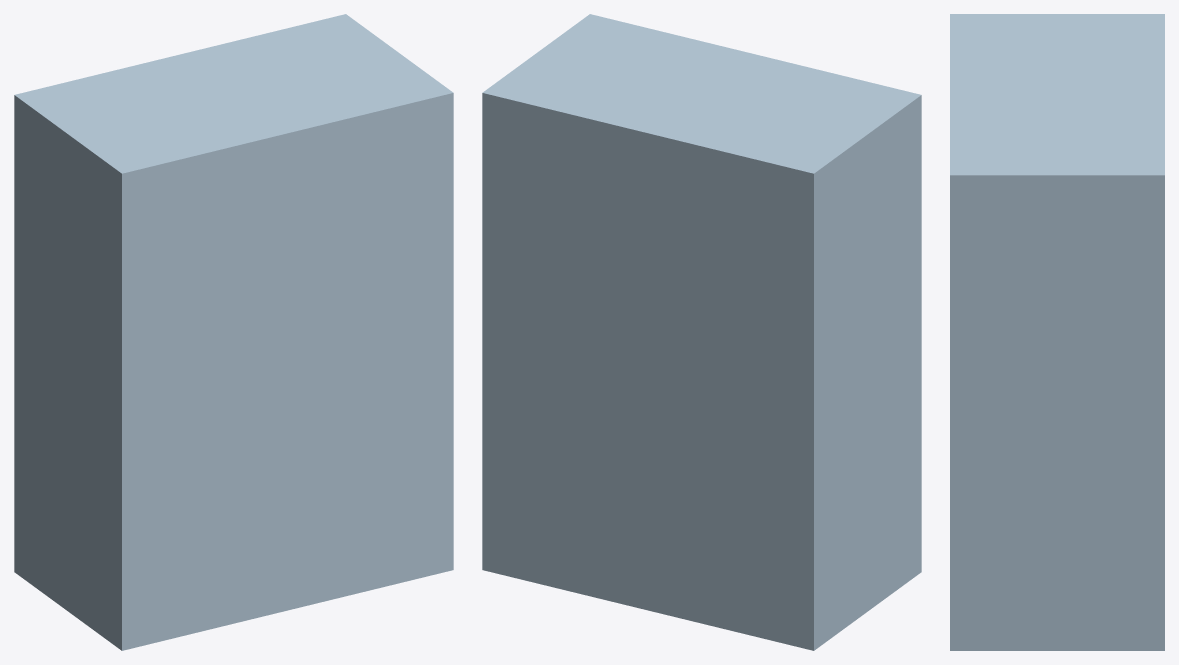
File: cabinet.gltf
The picture shows the model from 3 angles, left to right: view 1: azimuth 30°, elevation 25°; view 2: azimuth 150°, elevation 25°; view 3: azimuth 270°, elevation 25°; orthographic projection.
Size of the model in its own units: 0.8 by 1.1 by 0.45.
